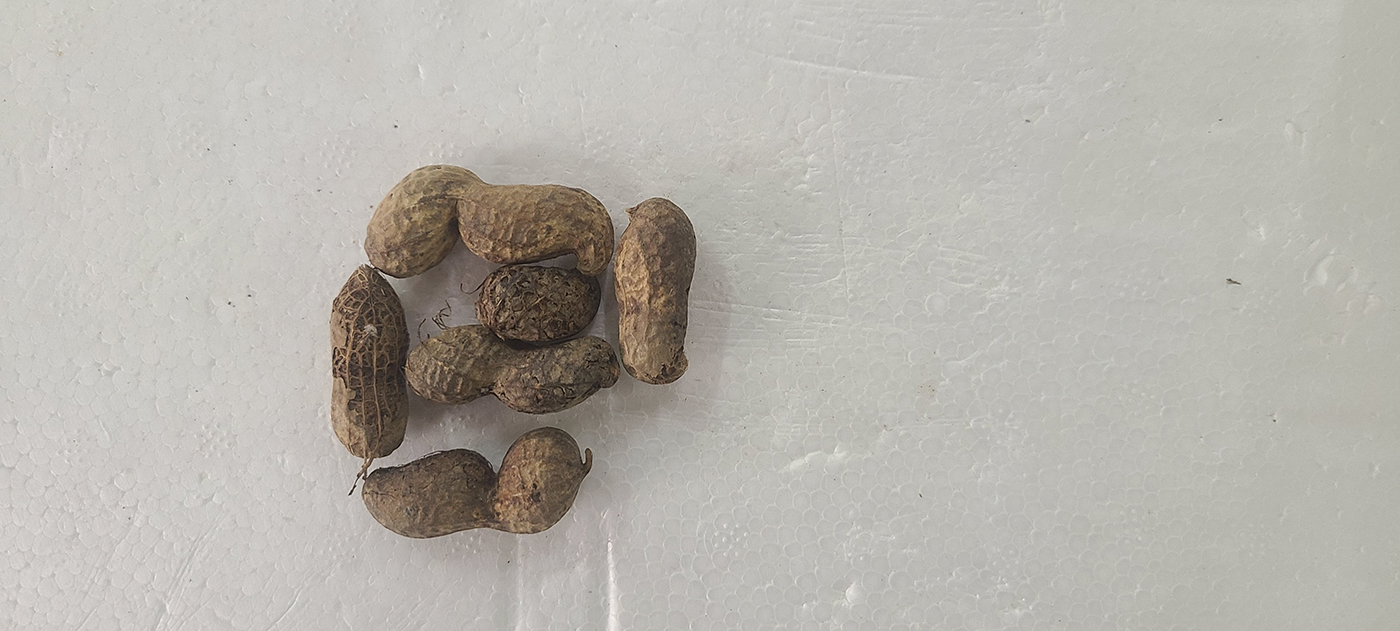l: (364, 164, 612, 277), (362, 429, 581, 539), (406, 325, 619, 414), (612, 200, 699, 385), (328, 265, 409, 458), (477, 264, 602, 344)
